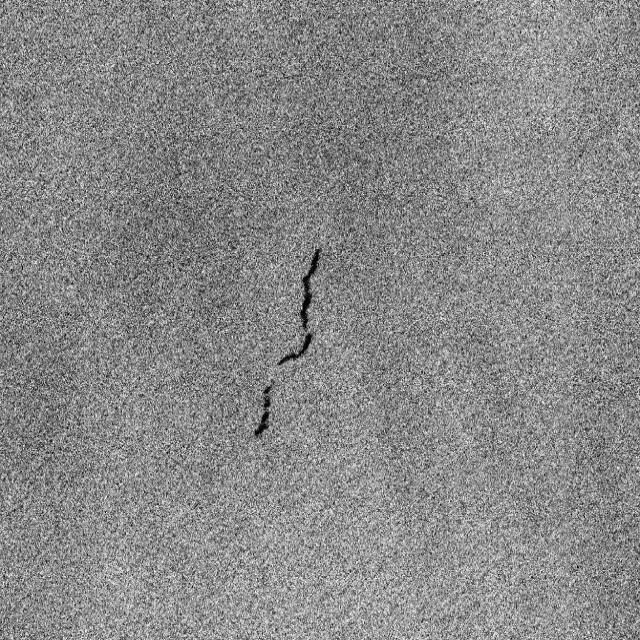oil-spill: (247, 240, 328, 448)
